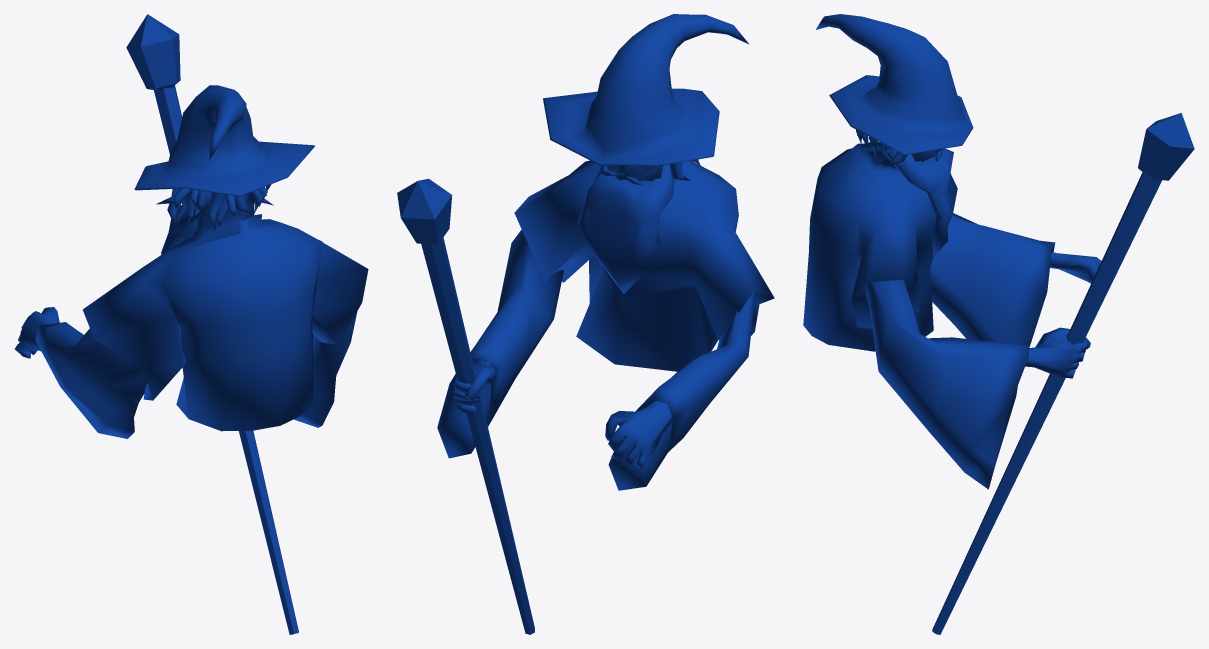
The model's file is top_000049.obj.
3 views of the same model, side by side, from view 1: azimuth 30°, elevation 25°; view 2: azimuth 150°, elevation 25°; view 3: azimuth 270°, elevation 25° (orthographic). The views are drawn at different scales.
Parts seen in each view (by area): view 1: Wizard.002_Plane.002; view 2: Wizard.002_Plane.002; view 3: Wizard.002_Plane.002.
Part boxes in pixels (x1,y1,x2,y2): Wizard.002_Plane.002: (14, 14, 368, 634); Wizard.002_Plane.002: (397, 14, 774, 634); Wizard.002_Plane.002: (803, 14, 1194, 634).
Size of the model in its own units: 0.8788 by 1.8 by 1.12.
